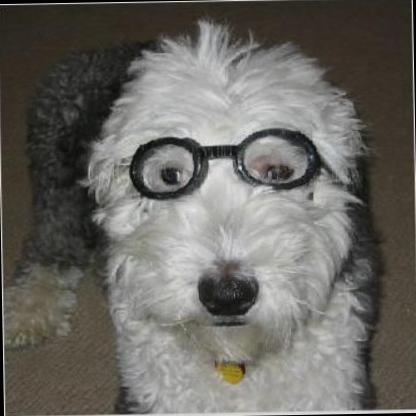Old_English_sheepdog: (0, 17, 378, 416)
